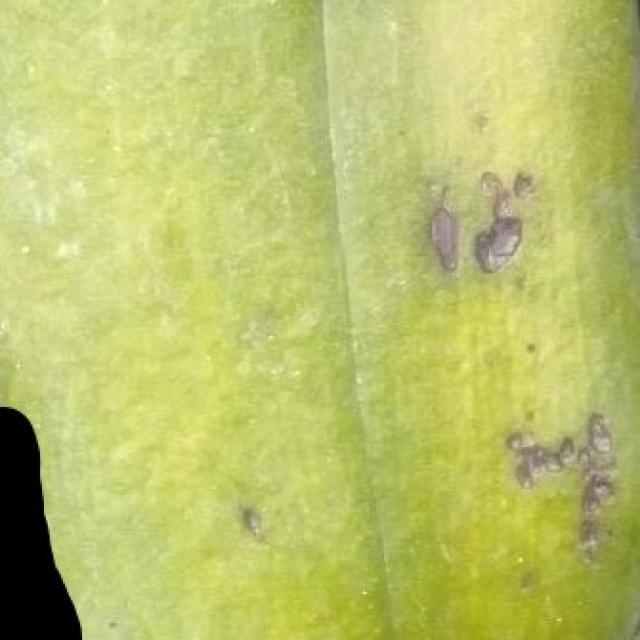mite: (0, 392, 638, 638), (214, 405, 625, 565), (424, 203, 525, 275), (573, 409, 619, 562), (214, 481, 287, 554), (502, 426, 573, 489), (472, 214, 523, 273), (229, 493, 271, 544), (237, 502, 264, 537), (510, 168, 535, 197), (520, 336, 539, 357), (523, 338, 537, 353)
sunburn: (418, 162, 541, 283)
